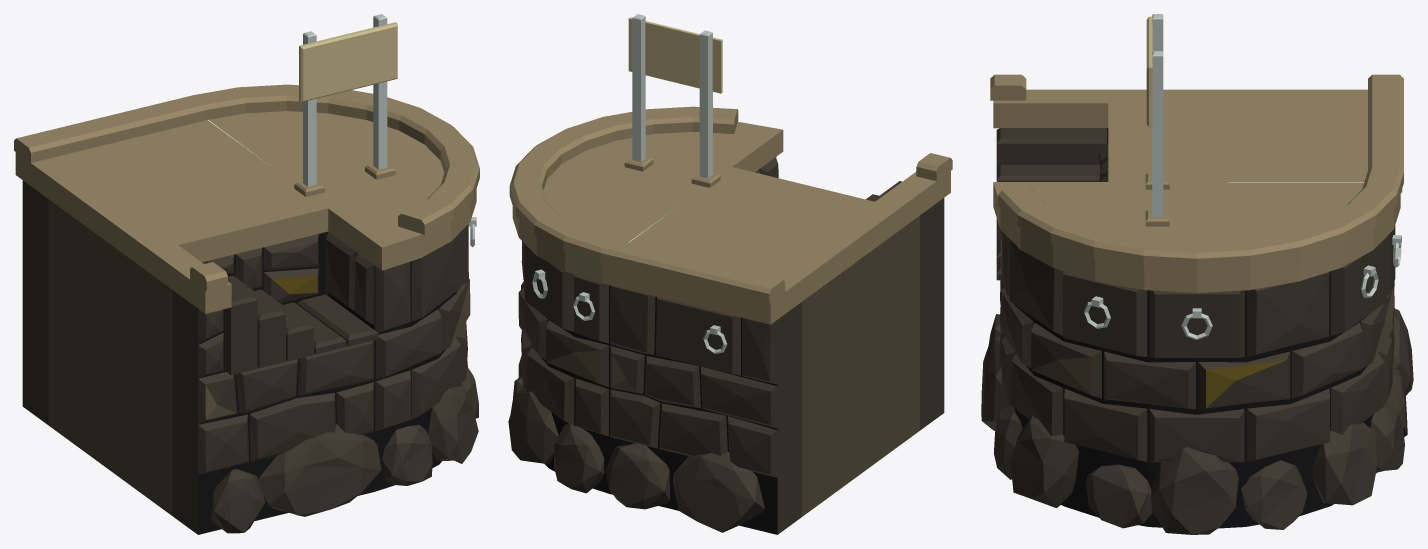
File: harbour-jetty-run-bc1c7c.glb
3 views of the same model, side by side, from view 1: azimuth 30°, elevation 25°; view 2: azimuth 150°, elevation 25°; view 3: azimuth 270°, elevation 25° (orthographic). The views are drawn at different scales.
Visible parts, largest first — view 1: jetty-stonework; view 2: jetty-stonework; view 3: jetty-stonework.
Part boxes in pixels (box(x1,y1,x2,y2)): jetty-stonework: box(14, 14, 479, 534); jetty-stonework: box(508, 14, 952, 534); jetty-stonework: box(981, 14, 1413, 534).
Bounding box in the file's own units: 3.95 × 4.4 × 3.95.
